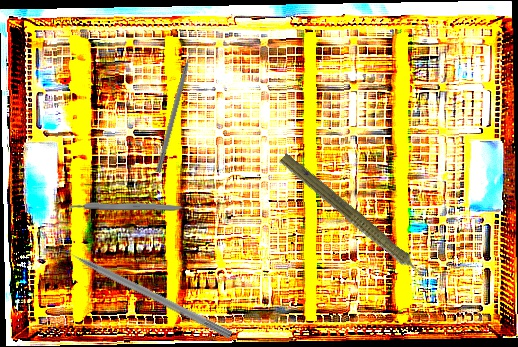Chopper: (155, 42, 203, 175)
Handpiece: (274, 150, 439, 293)
Pusher: (52, 239, 234, 340)
Scalpel Handle: (69, 200, 186, 212)
